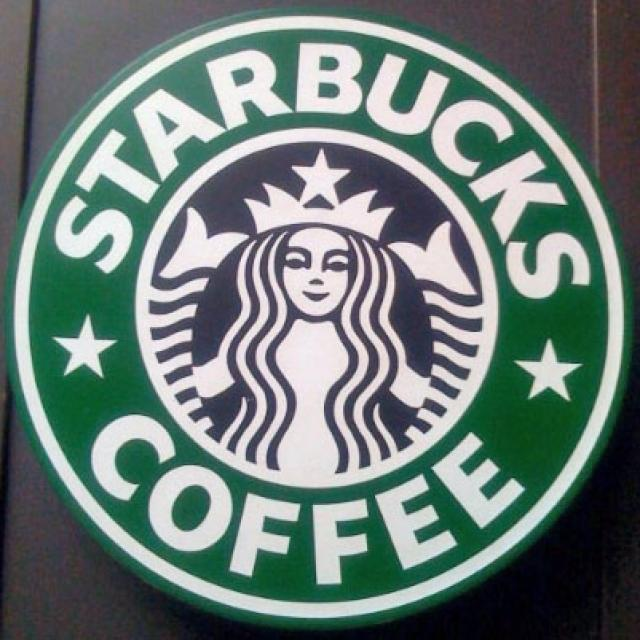starbucks: (6, 8, 628, 624)
